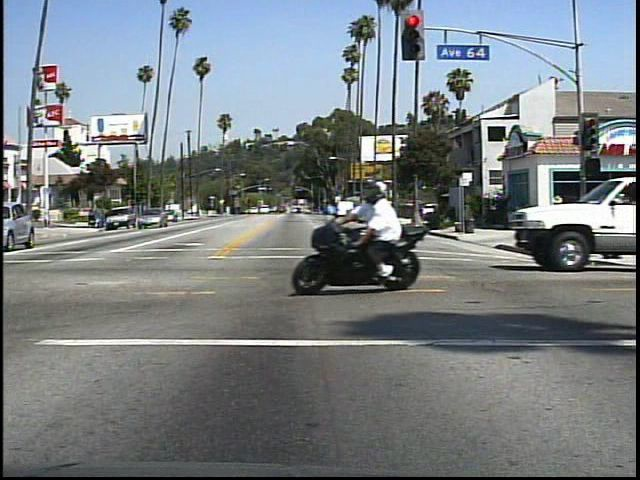person: (347, 175, 422, 284), (547, 192, 574, 208)
